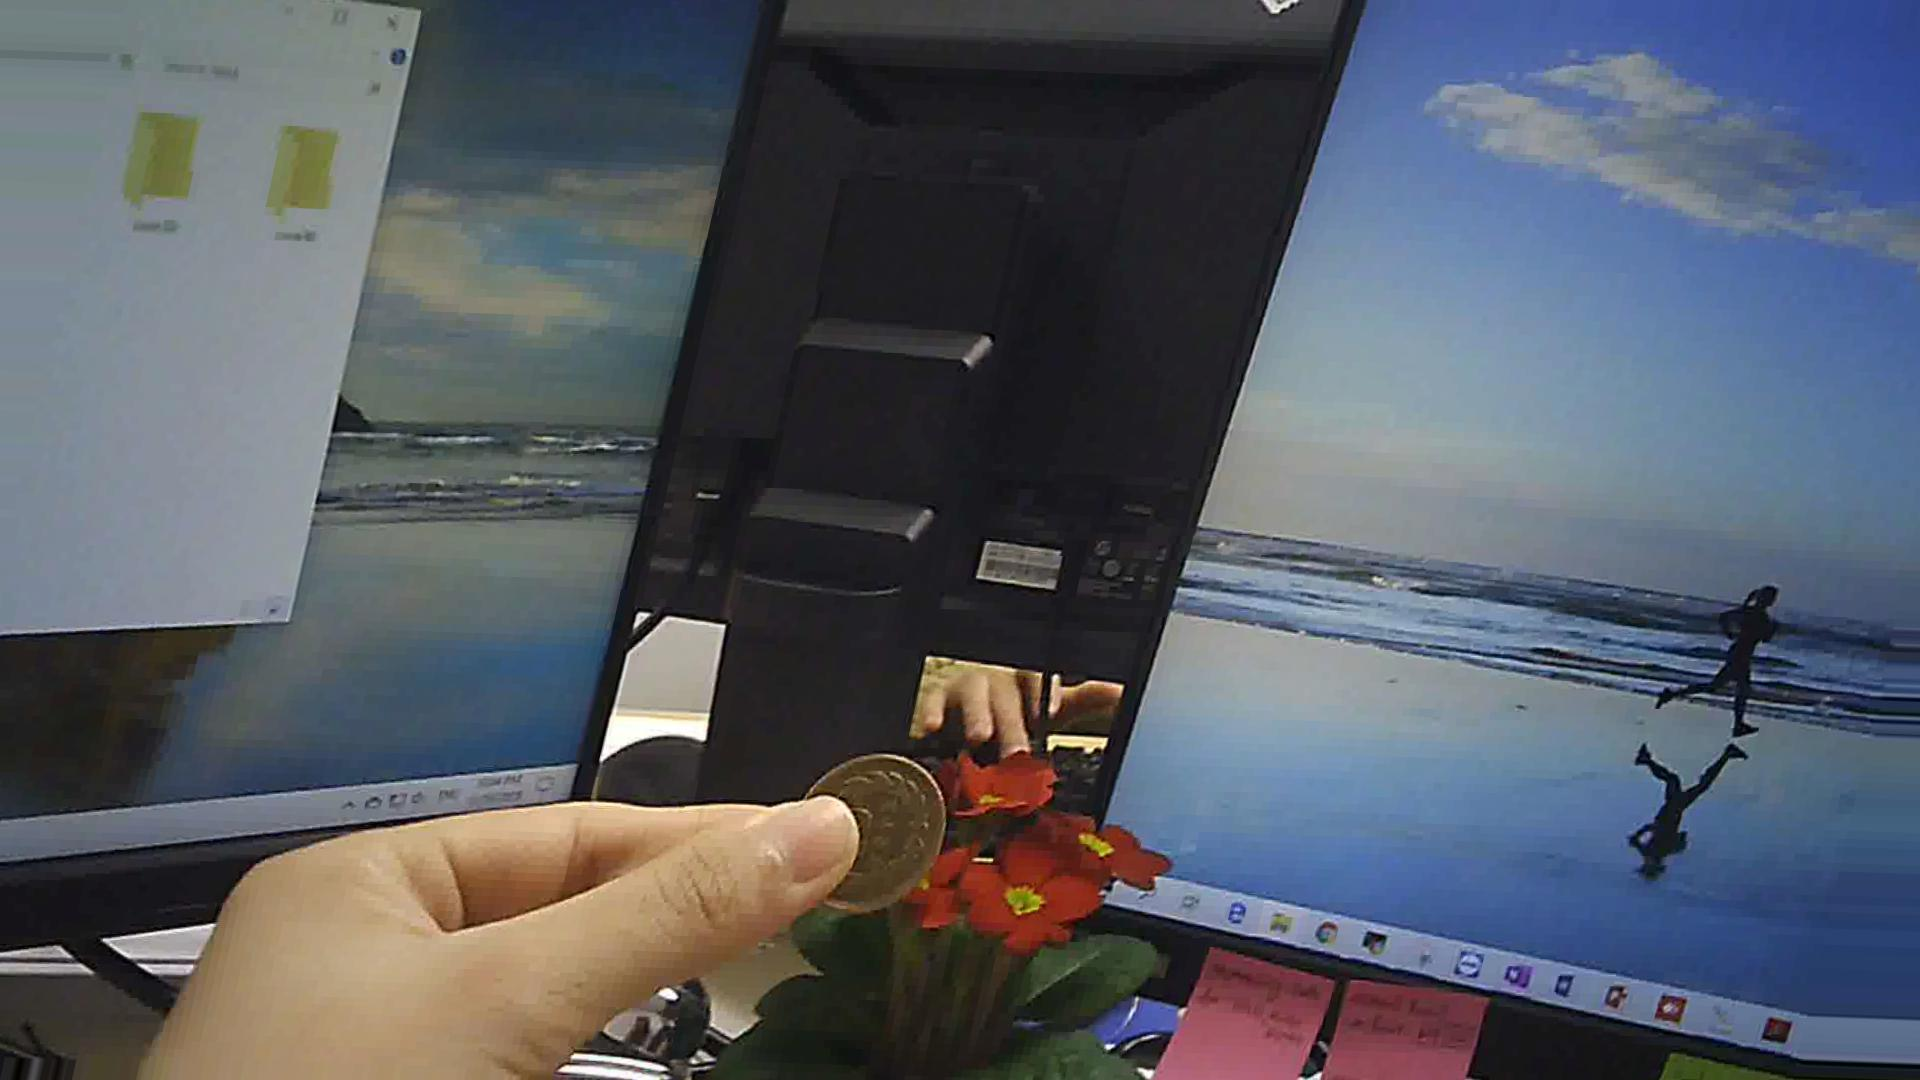10 Yen: (775, 746, 955, 920)
